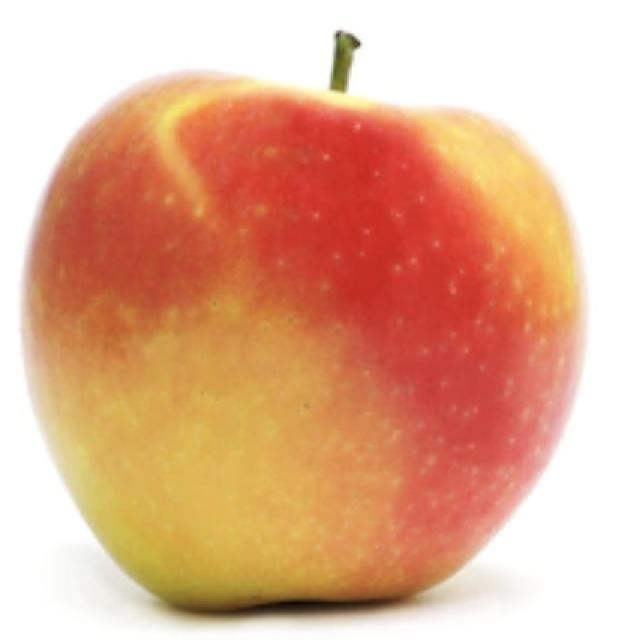Fresh Apple: (42, 80, 593, 627)
